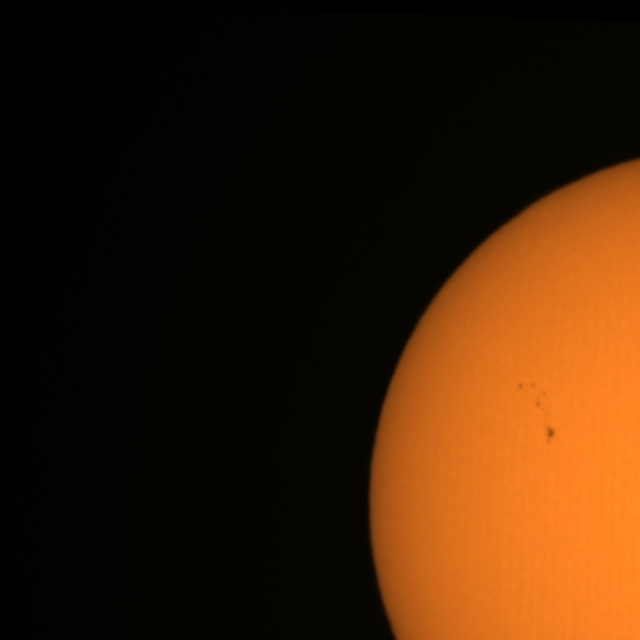sunspot: (516, 378, 550, 410), (542, 424, 558, 446)
